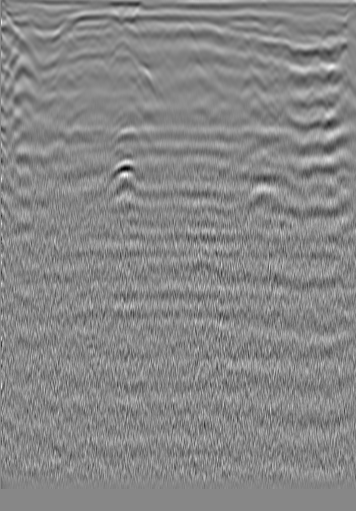가스: (107, 154, 142, 188)
상수: (33, 31, 53, 51)
오수: (295, 27, 315, 47)
우수: (161, 29, 181, 49)
